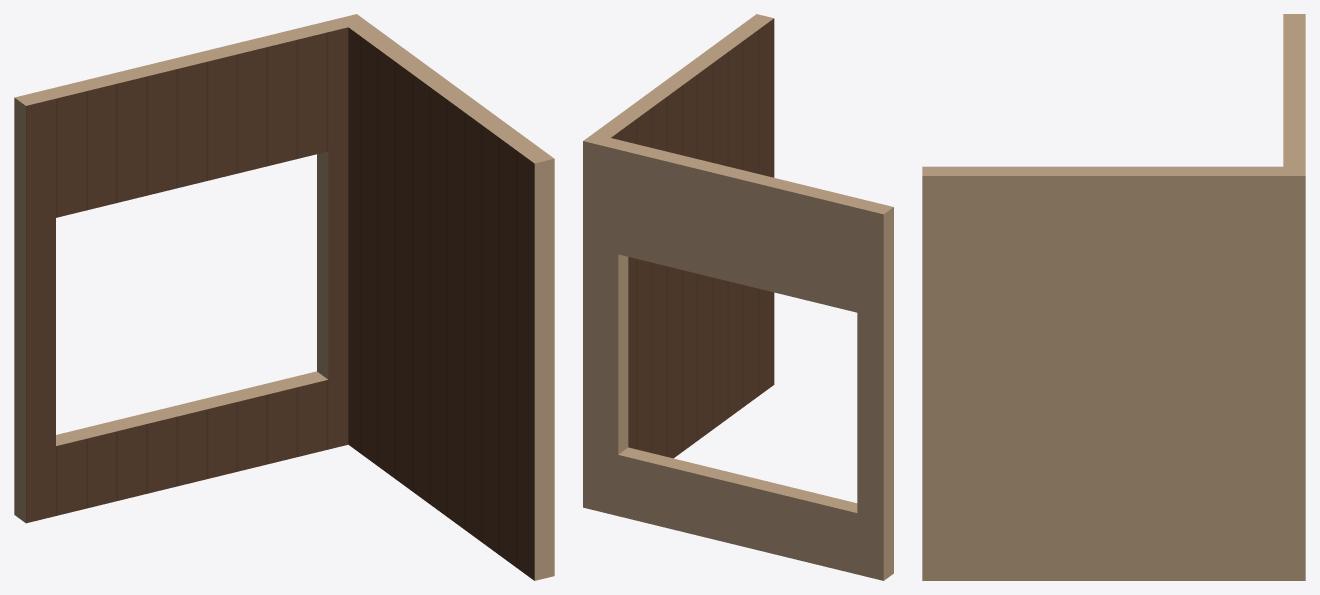
The model's file is Wall3_C9_13.fbx.
3 renders of one model, left to right at view 1: azimuth 30°, elevation 25°; view 2: azimuth 150°, elevation 25°; view 3: azimuth 270°, elevation 25°, orthographic. The views are drawn at different scales.
Visible parts, largest first — view 1: Wall3_C9_13; view 2: Wall3_C9_13; view 3: Wall3_C9_13.
Boxes of the visible parts, x1,y1,x2,y2 form: Wall3_C9_13: (14, 14, 554, 580); Wall3_C9_13: (583, 14, 893, 580); Wall3_C9_13: (922, 14, 1305, 580).
Size of the model in its own units: 258 by 300 by 258.
